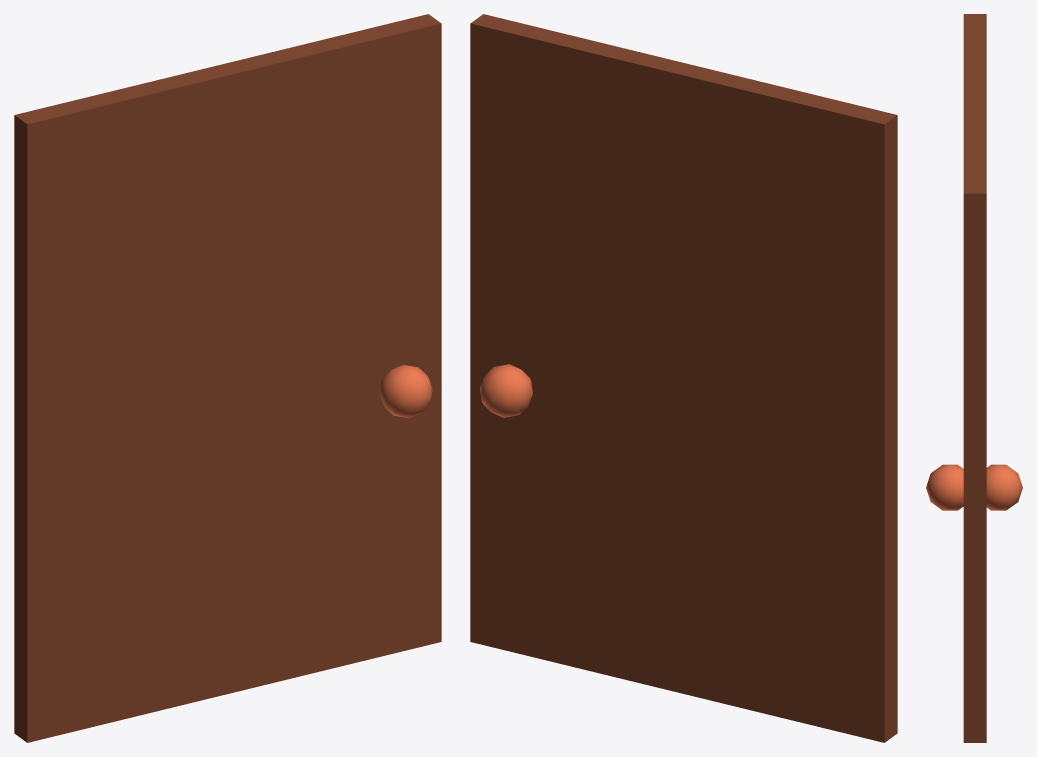
Rendered from Door.fbx.
3 renders of one model, left to right at view 1: azimuth 30°, elevation 25°; view 2: azimuth 150°, elevation 25°; view 3: azimuth 270°, elevation 25°, orthographic. The views are drawn at different scales.
Visible parts, largest first — view 1: Door; view 2: Door; view 3: Door.
Part boxes in pixels (<box>): Door: <box>14,14,441,742</box>; Door: <box>470,14,897,742</box>; Door: <box>926,14,1022,742</box>.
Bounding box in the file's own units: 176 × 252 × 40.29.
